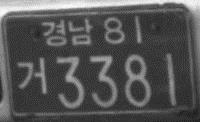1: (161, 53, 180, 105), (130, 15, 146, 44)
3: (54, 55, 85, 109), (89, 54, 118, 108)
8: (123, 54, 152, 108), (101, 16, 126, 44)
거: (15, 56, 48, 94)
경남_O: (39, 17, 93, 47)
